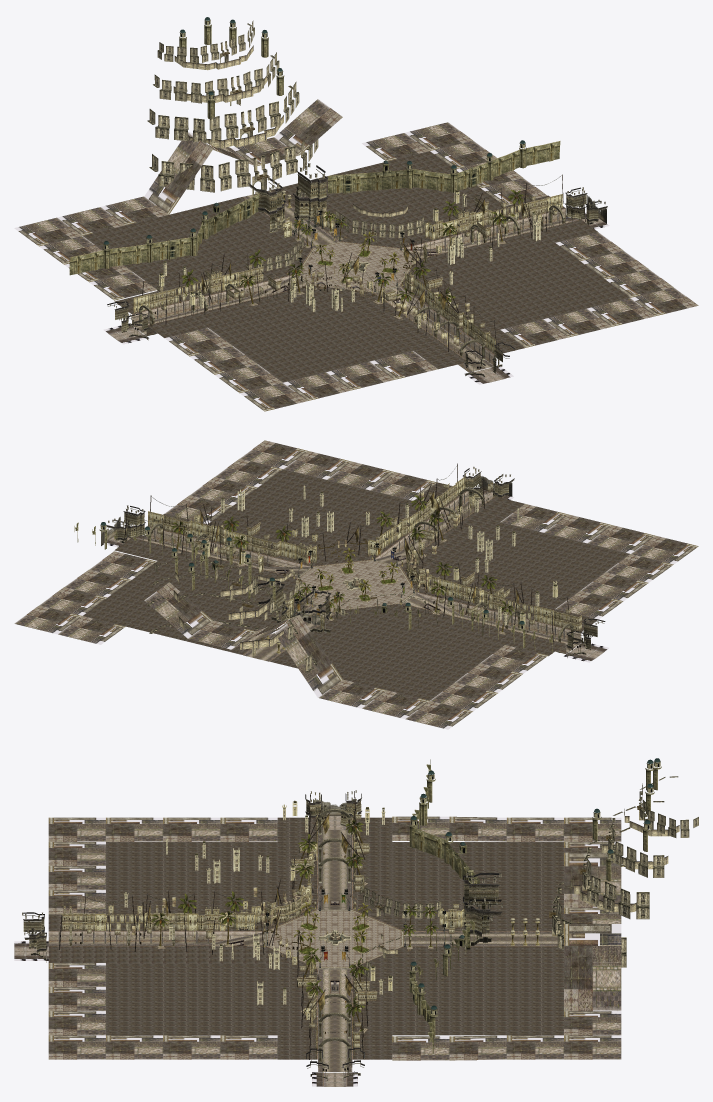
File: map_T01_04.glb
The picture shows the model from 3 angles, top to bottom: view 1: azimuth 30°, elevation 25°; view 2: azimuth 150°, elevation 25°; view 3: azimuth 270°, elevation 25°; orthographic projection. The views are drawn at different scales.
Parts seen in each view (by area): view 1: FM_T01_road04_AAA (×31), default_ground, OM_09_sn_bldg03A (×4), OM_09_sn_T01Wall06A (×4), FM_T01_road04_ABA (×2), FM_T01_road04_ACA (×2), FM_T01_road04_AOA (×2), FM_T01_road04_AWA (×2), FM_T01_road04_AHA (×2), OM_09_sn_T01Wall04A (×2), OM_09_hy_gate02B, FM_T01_road04_APA (×2) (+20 smaller); view 2: FM_T01_road04_AAA (×34), default_ground, OM_09_sn_bldg03A (×3), FM_T01_road04_ACA (×2), FM_T01_road04_AWA (×2), FM_T01_road04_AOA (×2), FM_T01_road04_APA (×2), FM_T01_road04_ABA (×2), OM_09_hy_gate02B (×2), FM_T01_road04_ATA, FM_T01_road04_AKA, FM_T01_road04_AYA (+22 smaller); view 3: FM_T01_road04_AAA (×36), default_ground, OM_09_sn_bldg03A (×3), FM_T01_road04_AHA (×2), FM_T01_road04_APA (×2), FM_T01_road04_AOA (×2), FM_T01_road04_ACA (×2), FM_T01_road04_AWA (×2), FM_T01_road04_ABA (×2), OM_09_sn_bldg04A (×2), OM_09_hy_gate02B (×2), FM_T01_road04_BBA (+26 smaller).
Part boxes in pixels (x1,y1,x2,y2): FM_T01_road04_AAA (×31): [83, 151, 629, 382]; default_ground: [14, 99, 698, 411]; OM_09_sn_bldg03A (×4): [147, 45, 425, 242]; OM_09_sn_T01Wall06A (×4): [69, 141, 560, 275]; FM_T01_road04_ABA (×2): [433, 311, 524, 369]; FM_T01_road04_ACA (×2): [388, 325, 481, 372]; FM_T01_road04_AOA (×2): [140, 304, 250, 337]; FM_T01_road04_AWA (×2): [114, 280, 222, 330]; FM_T01_road04_AHA (×2): [494, 219, 598, 253]; OM_09_sn_T01Wall04A (×2): [153, 173, 367, 260]; OM_09_hy_gate02B: [293, 163, 328, 220]; FM_T01_road04_APA (×2): [480, 195, 569, 242]; FM_T01_road04_AAA (×34): [83, 469, 629, 700]; default_ground: [14, 440, 698, 729]; OM_09_sn_bldg03A (×3): [147, 568, 317, 672]; FM_T01_road04_ACA (×2): [432, 496, 524, 540]; FM_T01_road04_AWA (×2): [462, 622, 573, 656]; FM_T01_road04_AOA (×2): [491, 598, 597, 648]; FM_T01_road04_APA (×2): [114, 537, 218, 571]; FM_T01_road04_ABA (×2): [391, 482, 481, 538]; OM_09_hy_gate02B (×2): [123, 505, 288, 622]; FM_T01_road04_ATA: [332, 588, 399, 613]; FM_T01_road04_AKA: [313, 556, 381, 581]; FM_T01_road04_AYA: [307, 604, 373, 632]; FM_T01_road04_AAA (×36): [106, 842, 563, 1035]; default_ground: [48, 816, 621, 1060]; OM_09_sn_bldg03A (×3): [549, 801, 679, 967]; FM_T01_road04_AHA (×2): [277, 1011, 334, 1071]; FM_T01_road04_APA (×2): [335, 1011, 392, 1071]; FM_T01_road04_AOA (×2): [277, 817, 334, 878]; FM_T01_road04_ACA (×2): [48, 914, 162, 945]; FM_T01_road04_AWA (×2): [335, 817, 392, 878]; FM_T01_road04_ABA (×2): [48, 945, 162, 962]; OM_09_sn_bldg04A (×2): [360, 776, 698, 918]; OM_09_hy_gate02B (×2): [22, 896, 502, 953]; FM_T01_road04_BBA: [506, 939, 563, 962].
Size of the model in its own units: 339 by 108 by 359.
238 materials, 238 textured.
